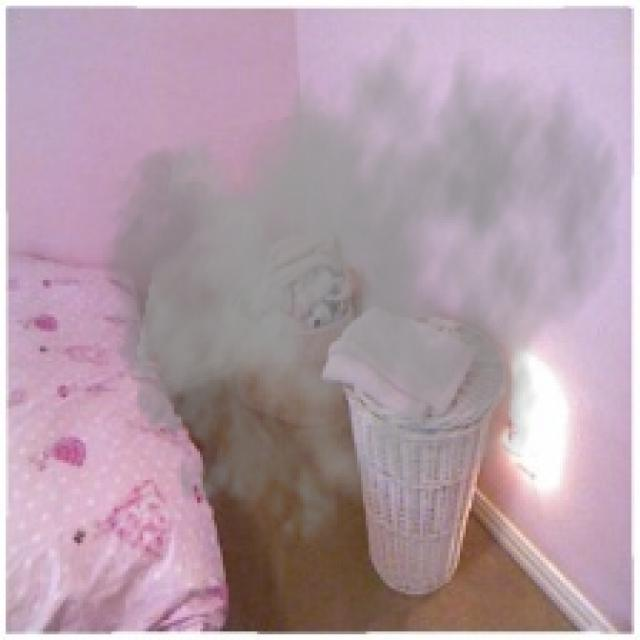smoke: (94, 0, 626, 566)
